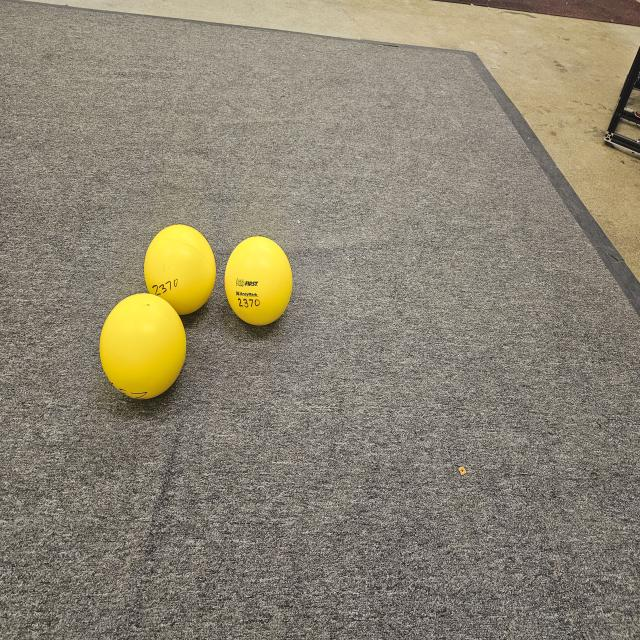Fuel: (100, 294, 185, 399), (144, 223, 217, 316), (225, 235, 292, 328)
